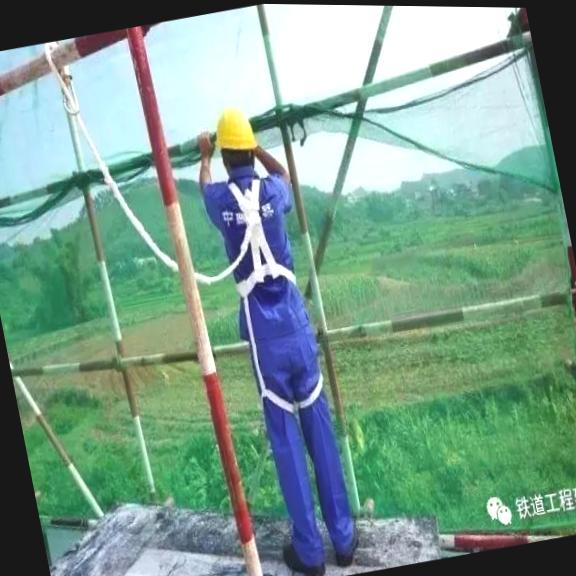no_safety_vest: (194, 155, 325, 367)
